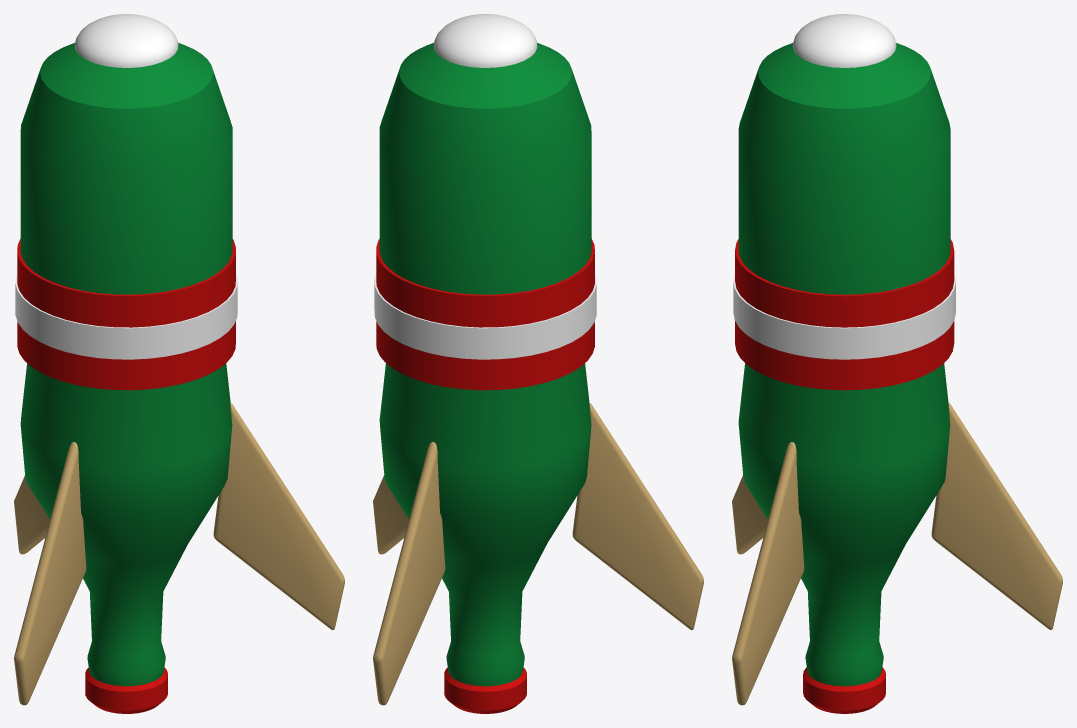
The model's file is Rocket_02_SodaBottle.obj.
3 views of the same model, side by side, from view 1: azimuth 30°, elevation 25°; view 2: azimuth 150°, elevation 25°; view 3: azimuth 270°, elevation 25° (orthographic).
Parts seen in each view (by area): view 1: R02_Body, R02_Label, R02_CardFin_3, R02_CardFin_2, R02_LabelStripe, R02_Fizz, R02_Cap, R02_CardFin; view 2: R02_Body, R02_Label, R02_CardFin_2, R02_CardFin, R02_LabelStripe, R02_Fizz, R02_Cap, R02_CardFin_3; view 3: R02_Body, R02_Label, R02_CardFin, R02_CardFin_3, R02_LabelStripe, R02_Fizz, R02_Cap, R02_CardFin_2.
Part boxes in pixels (x1,y1,x2,y2): R02_Body: [20, 43, 232, 686]; R02_Label: [17, 239, 235, 390]; R02_CardFin_3: [213, 403, 344, 630]; R02_CardFin_2: [14, 442, 86, 705]; R02_LabelStripe: [15, 274, 237, 359]; R02_Fizz: [75, 14, 178, 67]; R02_Cap: [85, 667, 167, 713]; R02_CardFin: [14, 476, 49, 554]; R02_Body: [379, 43, 591, 686]; R02_Label: [376, 239, 594, 390]; R02_CardFin_2: [572, 403, 703, 630]; R02_CardFin: [373, 442, 445, 705]; R02_LabelStripe: [374, 273, 596, 359]; R02_Fizz: [434, 14, 537, 67]; R02_Cap: [444, 667, 526, 713]; R02_CardFin_3: [373, 475, 408, 554]; R02_Body: [738, 43, 950, 686]; R02_Label: [735, 239, 954, 390]; R02_CardFin: [931, 403, 1062, 629]; R02_CardFin_3: [732, 442, 804, 705]; R02_LabelStripe: [733, 274, 955, 359]; R02_Fizz: [792, 14, 896, 67]; R02_Cap: [803, 667, 885, 713]; R02_CardFin_2: [732, 475, 767, 554].
Size of the model in its own units: 3.3 by 6.47 by 2.87.
